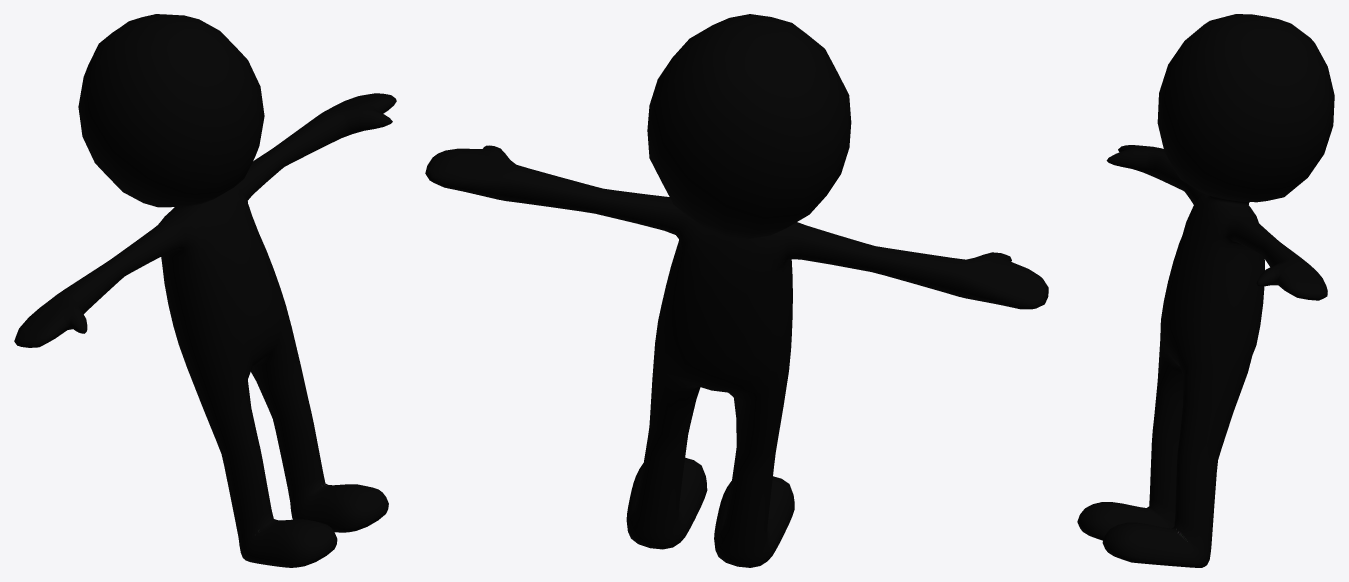
The model's file is stickmanred.fbx.
3 views of the same model, side by side, from view 1: azimuth 30°, elevation 25°; view 2: azimuth 150°, elevation 25°; view 3: azimuth 270°, elevation 25° (orthographic). The views are drawn at different scales.
Visible parts, largest first — view 1: node_id4; view 2: node_id4; view 3: node_id4.
Boxes of the visible parts, x1,y1,x2,y2 form: node_id4: (14, 14, 396, 567); node_id4: (425, 14, 1048, 567); node_id4: (1077, 14, 1334, 567).
Size of the model in its own units: 0.4733 by 0.507 by 0.2366.
Materials: 1 (1 with a texture image).
